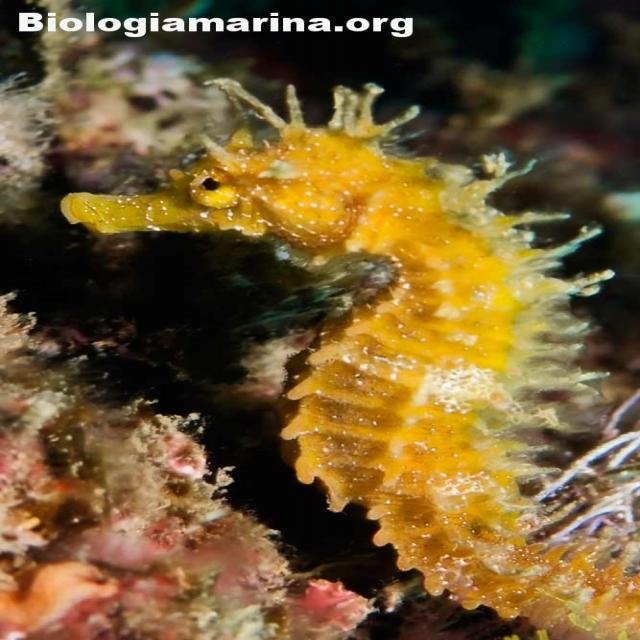Guttu: (53, 122, 396, 270)
